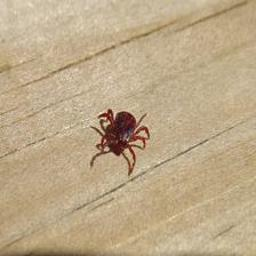Rhipicephalus sanguineus: (88, 109, 155, 176)
